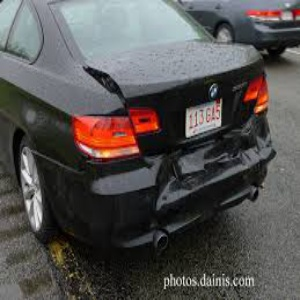bumper: (137, 135, 277, 207)
